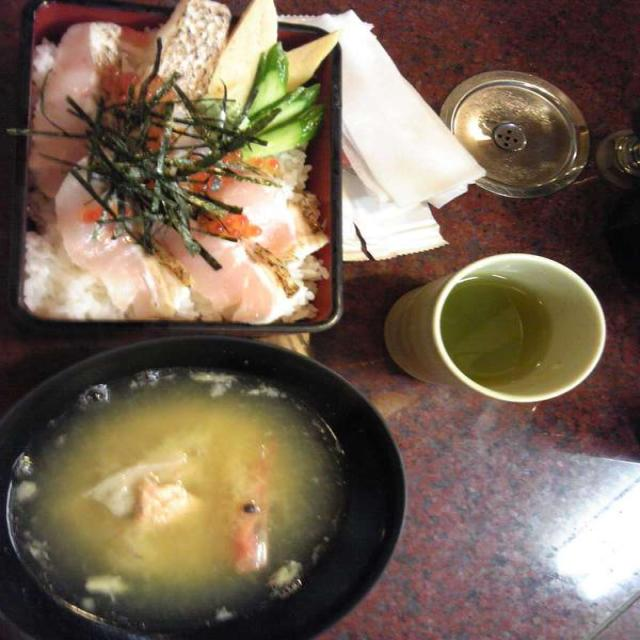刺身生食: (19, 209, 457, 448)
汤锅炖物: (443, 174, 640, 454)
